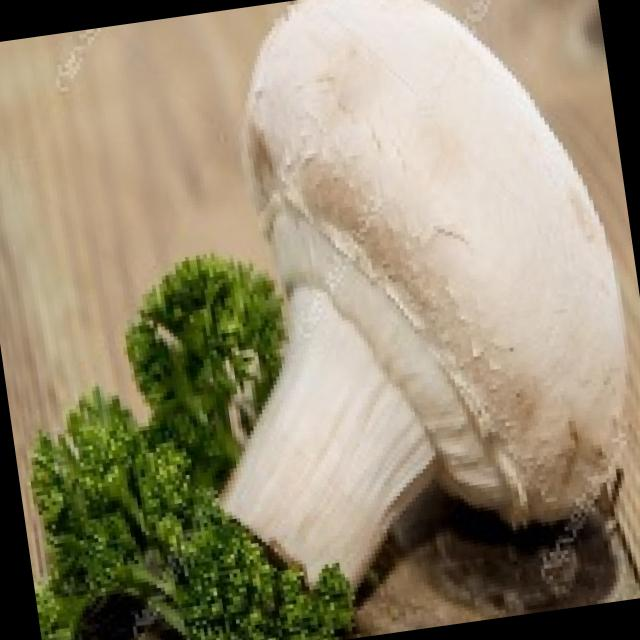mushroom: (162, 0, 640, 640)
